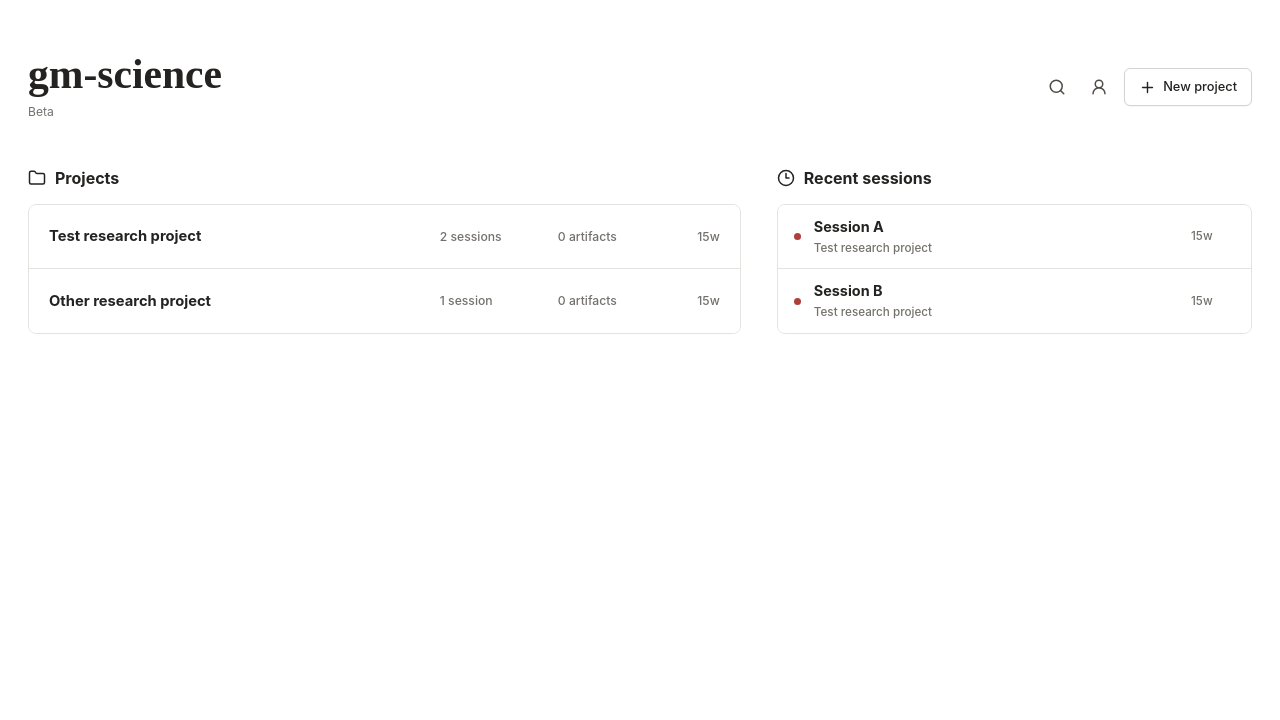
Test: App sending state › shows only sessions that belong to the selected project
This screenshot has width=1280, height=720.
Click the button "Test research project 2 sessions 0 artifacts 15w" at (125, 236), box [29,205,740,269]
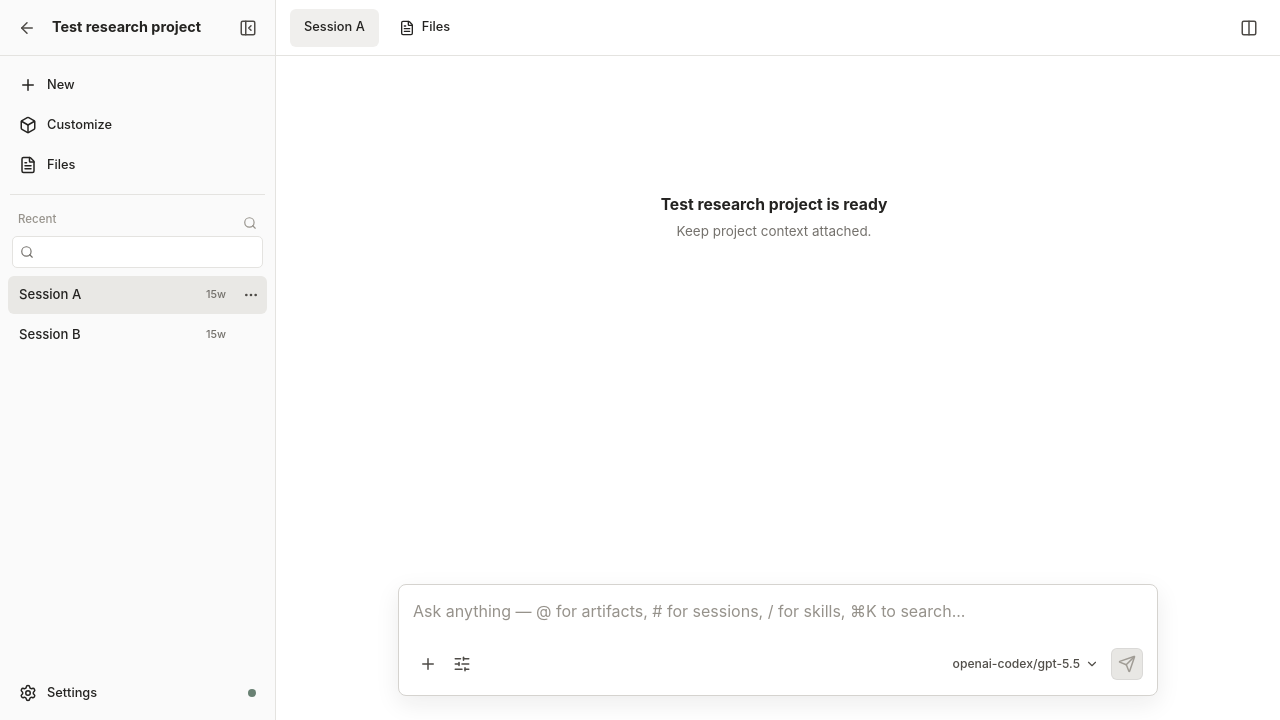
Expected: the button "Other project session" is not shown
Result: the button "Session A 15w" is shown at [8,276,237,314]
Click the button named "Back to dashboard" at (27, 28), box [10,10,44,44]
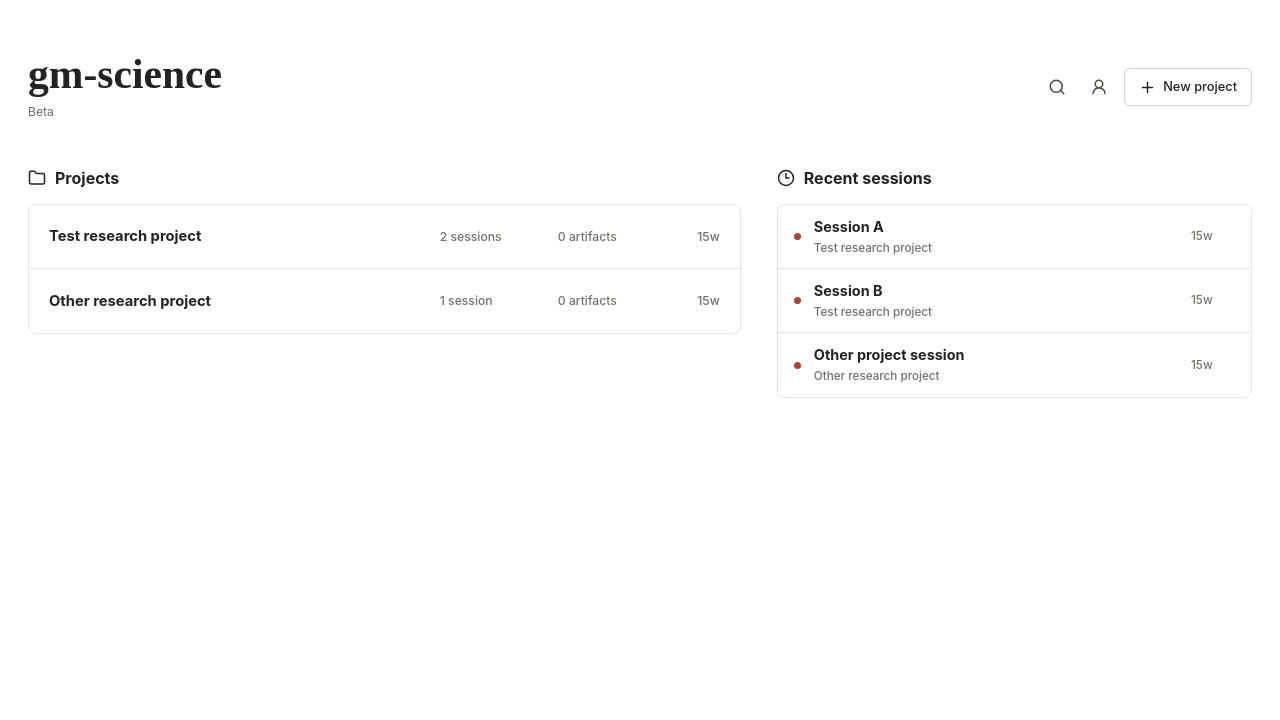
Click the button "Other research project 1 session 0 artifacts 15w" at (130, 301), box [29,269,740,333]
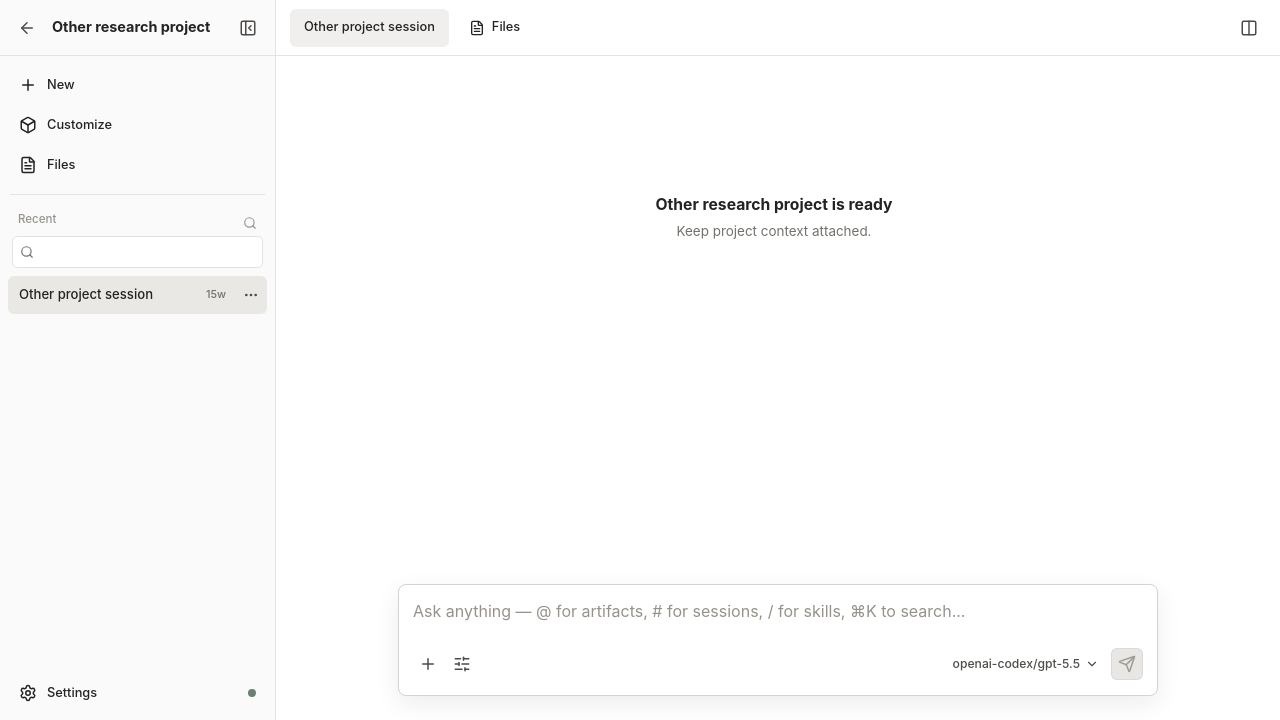
Result: the button "Other project session 15w" is shown at [8,276,237,314]
Result: the button "Session A" is gone
